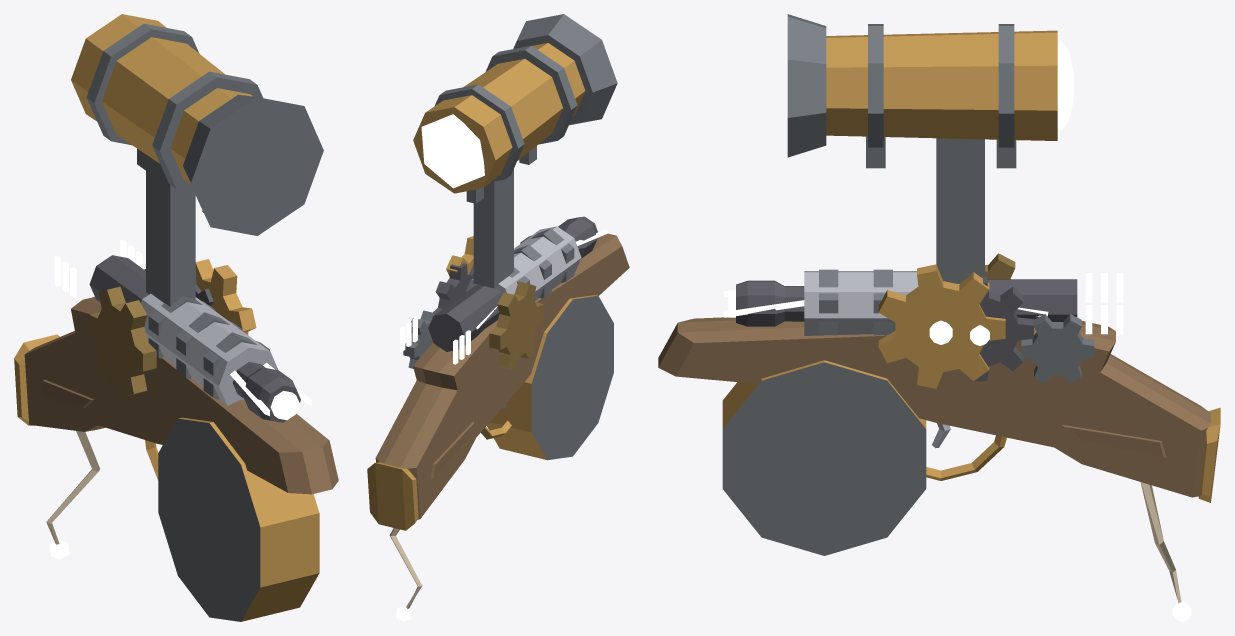
Rendered from gun-covering-fire.glb.
The picture shows the model from 3 angles, left to right: view 1: azimuth 30°, elevation 25°; view 2: azimuth 150°, elevation 25°; view 3: azimuth 270°, elevation 25°; orthographic projection. The views are drawn at different scales.
Parts seen in each view (by area): view 1: gun-covering-fire, sway_sinew, pulse_breath, pulse_vein; view 2: gun-covering-fire, pulse_breath, sway_sinew; view 3: gun-covering-fire, sway_sinew, pulse_breath.
Boxes of the visible parts, left/top/right/bottom form: gun-covering-fire: left=14, top=14, right=338, bottom=621; sway_sinew: left=46, top=431, right=100, bottom=559; pulse_breath: left=54, top=239, right=142, bottom=297; pulse_vein: left=230, top=362, right=312, bottom=415; gun-covering-fire: left=367, top=14, right=629, bottom=530; pulse_breath: left=400, top=317, right=470, bottom=364; sway_sinew: left=389, top=528, right=422, bottom=621; gun-covering-fire: left=658, top=14, right=1220, bottom=555; sway_sinew: left=1140, top=482, right=1191, bottom=621; pulse_breath: left=1085, top=273, right=1123, bottom=334.
Bounding box in the file's own units: 0.1573 × 0.6871 × 0.5784.
